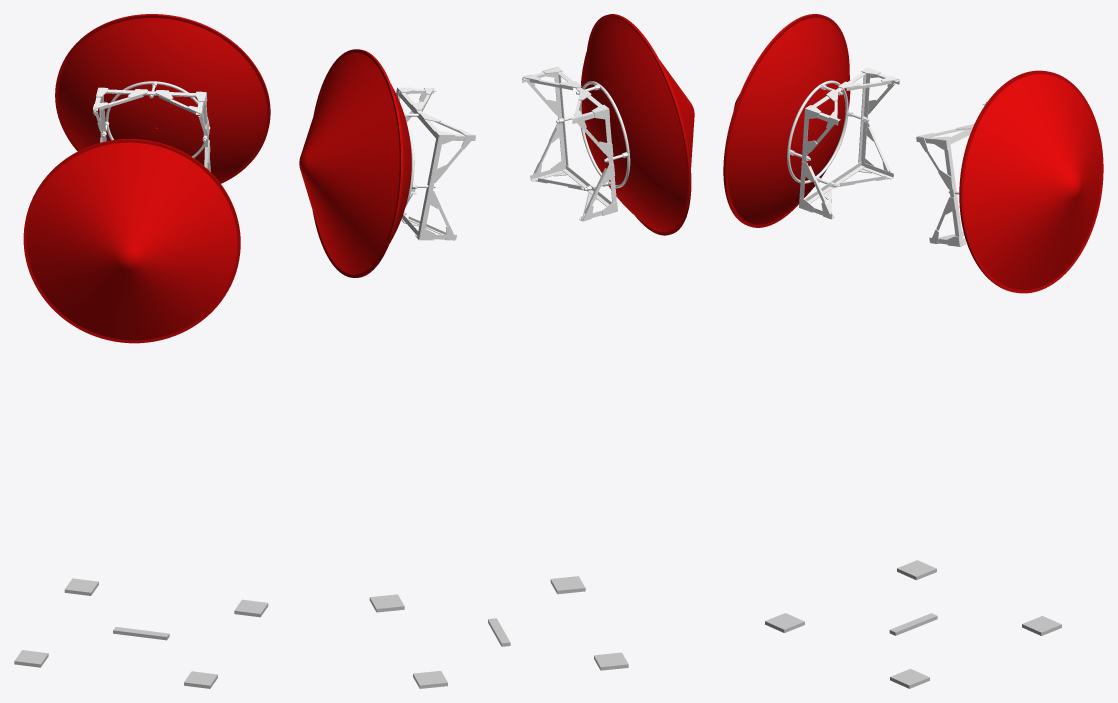
File: ang福地ダム.glb
3 renders of one model, left to right at view 1: azimuth 30°, elevation 25°; view 2: azimuth 150°, elevation 25°; view 3: azimuth 270°, elevation 25°, orthographic. The views are drawn at different scales.
Visible parts, largest first — view 1: group_41.005, group_13, group_40.003, group_39.001, group_14, group_6, group_8, group_7, group_5, group_11; view 2: group_41.002, group_13.003, group_40.001, group_39.003, group_13, group_41.005, group_26, group_26.001, group_14.002; view 3: group_41.002, group_13.003, group_40.001, group_39.003, group_29.001, group_14.002, group_29.
Boxes of the visible parts, bbox=[...] form: group_41.005: bbox=[26, 142, 237, 340]; group_13: bbox=[58, 18, 266, 181]; group_40.003: bbox=[23, 139, 240, 343]; group_39.001: bbox=[55, 14, 270, 183]; group_14: bbox=[105, 81, 209, 158]; group_6: bbox=[234, 599, 268, 617]; group_8: bbox=[14, 650, 48, 667]; group_7: bbox=[64, 578, 98, 595]; group_5: bbox=[184, 671, 217, 688]; group_11: bbox=[113, 627, 169, 640]; group_41.002: bbox=[299, 52, 399, 274]; group_13.003: bbox=[581, 18, 687, 232]; group_40.001: bbox=[312, 49, 402, 277]; group_39.003: bbox=[587, 14, 690, 235]; group_13: bbox=[389, 84, 411, 243]; group_41.005: bbox=[660, 60, 694, 167]; group_26: bbox=[417, 134, 475, 239]; group_26.001: bbox=[522, 72, 568, 181]; group_14.002: bbox=[579, 81, 630, 188]; group_41.002: bbox=[963, 74, 1101, 290]; group_13.003: bbox=[727, 17, 850, 224]; group_40.001: bbox=[960, 70, 1103, 293]; group_39.003: bbox=[724, 14, 849, 227]; group_29.001: bbox=[858, 73, 899, 179]; group_14.002: bbox=[787, 80, 848, 183]; group_29: bbox=[916, 135, 963, 245].
Size of the model in its own units: 4.99 by 8.9 by 5.25.
